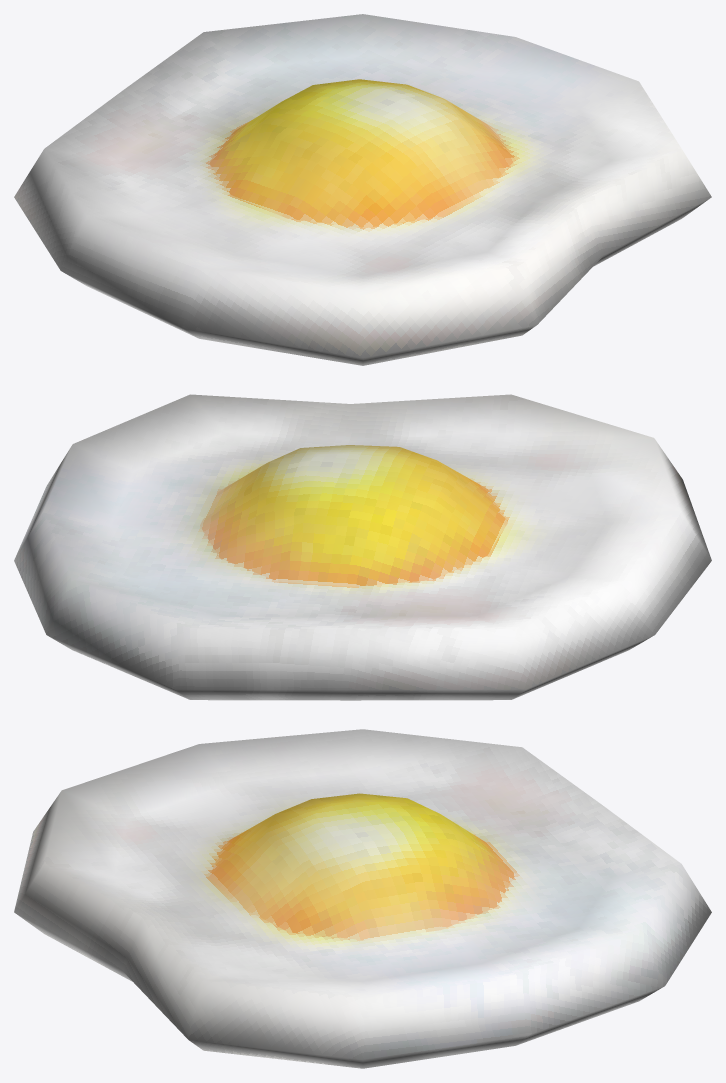
Rendered from egg.glb.
3 renders of one model, top to bottom at view 1: azimuth 30°, elevation 25°; view 2: azimuth 150°, elevation 25°; view 3: azimuth 270°, elevation 25°, orthographic.
Parts seen in each view (by area): view 1: Cylinder.002; view 2: Cylinder.002; view 3: Cylinder.002.
Boxes of the visible parts, <box> form: Cylinder.002: <box>14,14,711,365</box>; Cylinder.002: <box>14,394,711,700</box>; Cylinder.002: <box>14,729,711,1068</box>.
Size of what is drawn, in the model's own units: 2.19 by 0.3843 by 2.19.
1 material, 1 textured.
